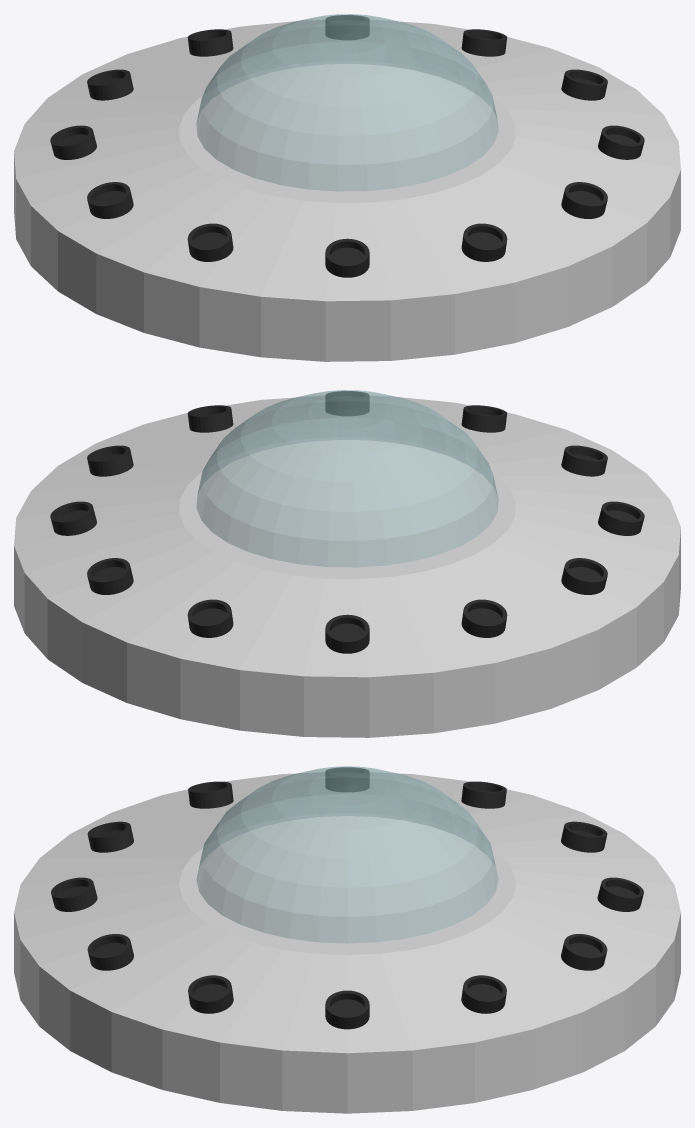
The model's file is flying saucer.fbx.
The picture shows the model from 3 angles, top to bottom: view 1: azimuth 30°, elevation 25°; view 2: azimuth 150°, elevation 25°; view 3: azimuth 270°, elevation 25°; orthographic projection.
Visible parts, largest first — view 1: Cylinder, Sphere, Cylinder.001; view 2: Cylinder, Sphere, Cylinder.001; view 3: Cylinder, Sphere, Cylinder.001.
Part boxes in pixels (<box>): Cylinder: <box>14,19,680,361</box>; Sphere: <box>196,14,498,191</box>; Cylinder.001: <box>50,15,644,277</box>; Cylinder: <box>14,395,680,737</box>; Sphere: <box>196,390,498,567</box>; Cylinder.001: <box>50,391,644,653</box>; Cylinder: <box>14,772,680,1113</box>; Sphere: <box>196,766,498,943</box>; Cylinder.001: <box>51,767,643,1029</box>.
Bounding box in the file's own units: 151 × 53.99 × 151.
